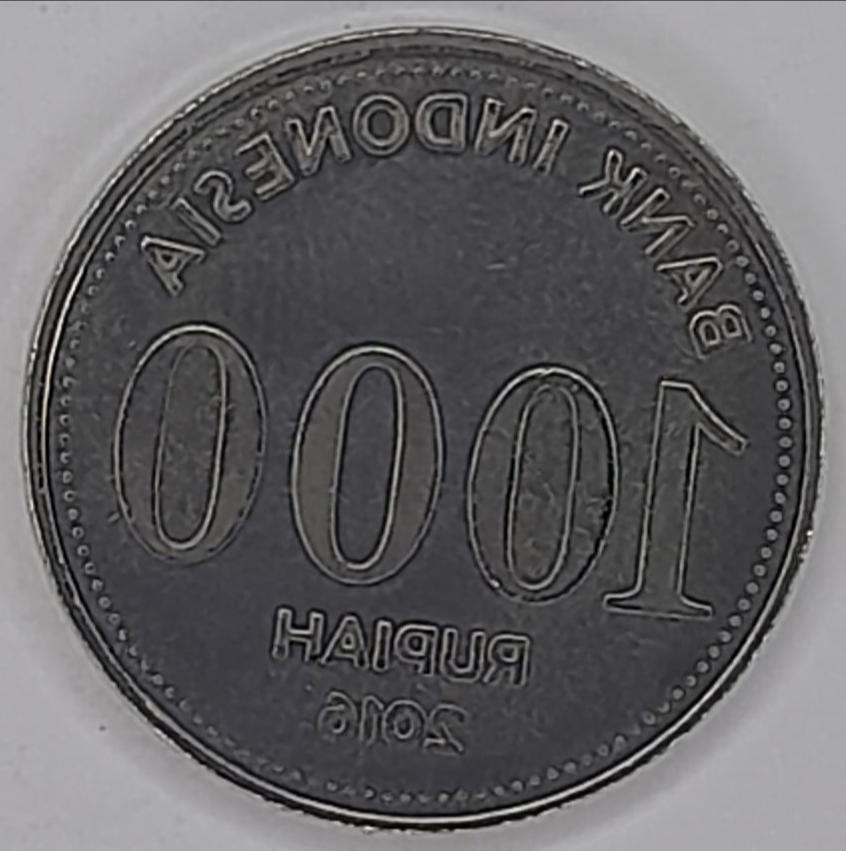coin_1000_e2016: (14, 17, 835, 851)
